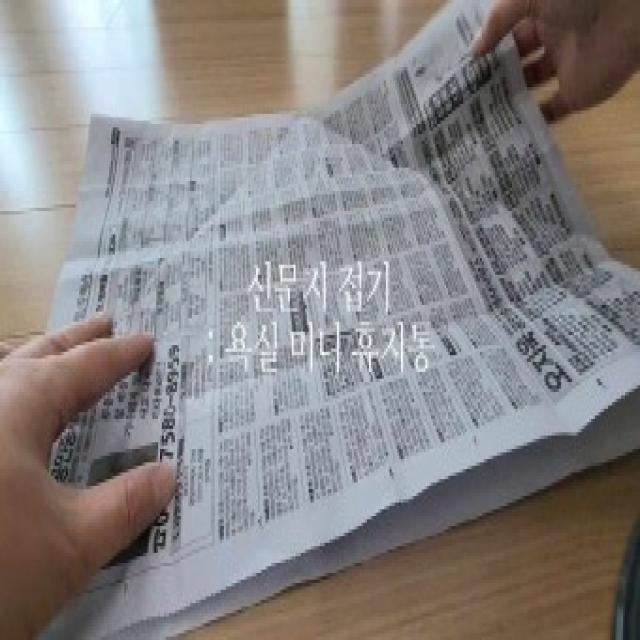Newspaper: (42, 0, 640, 640)
